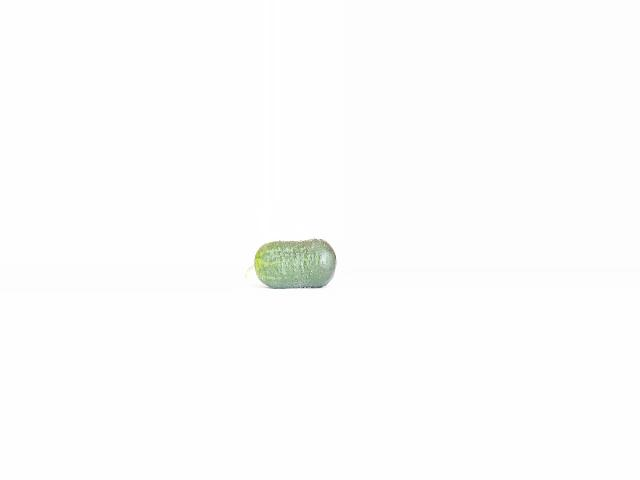cucumber: (244, 238, 335, 289)
